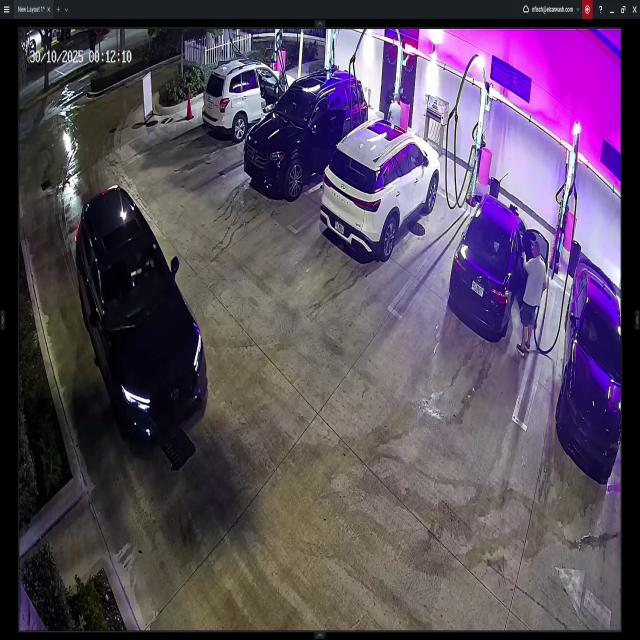Car: (72, 182, 207, 440), (321, 119, 435, 264), (452, 194, 549, 346), (244, 78, 359, 202), (564, 261, 622, 477), (206, 54, 296, 140)
